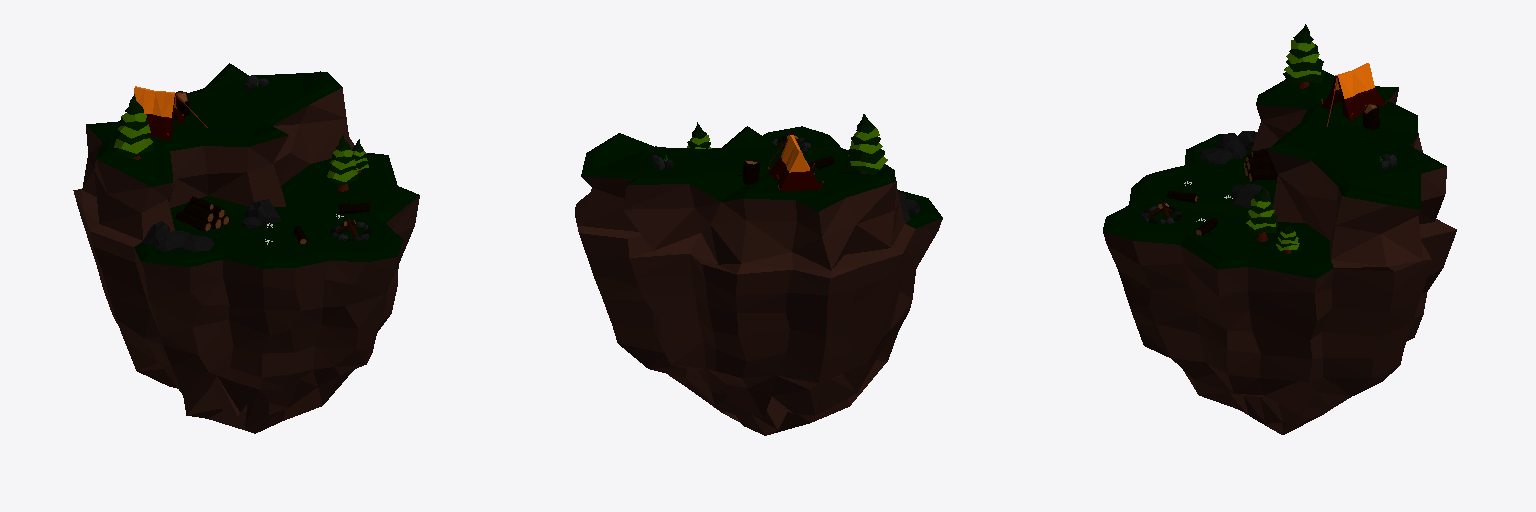
File: island3.obj
3 renders of one model, left to right at view 1: azimuth 30°, elevation 25°; view 2: azimuth 150°, elevation 25°; view 3: azimuth 270°, elevation 25°, orthographic.
Visible parts, largest first — view 1: Island_Plane, tent_Cube.002, LogPile_Cylinder.006, Rock2_Cube.001; view 2: Island_Plane, tent_Cube.002; view 3: Island_Plane, tent_Cube.002, LogPile_Cylinder.006.
Boxes of the visible parts, x1,y1,x2,y2 form: Island_Plane: [73, 63, 419, 433]; tent_Cube.002: [134, 86, 184, 140]; LogPile_Cylinder.006: [175, 196, 229, 230]; Rock2_Cube.001: [245, 199, 280, 224]; Island_Plane: [575, 126, 942, 435]; tent_Cube.002: [768, 135, 822, 190]; Island_Plane: [1103, 70, 1456, 434]; tent_Cube.002: [1321, 63, 1385, 121]; LogPile_Cylinder.006: [1244, 148, 1277, 181].
Size of the model in its own units: 7.96 by 9.03 by 8.11.